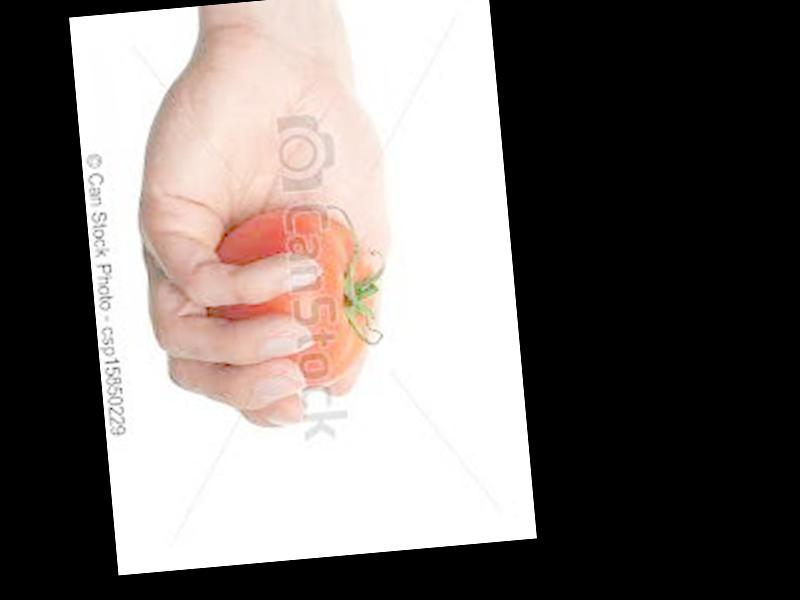Tomato: (204, 206, 382, 396)
